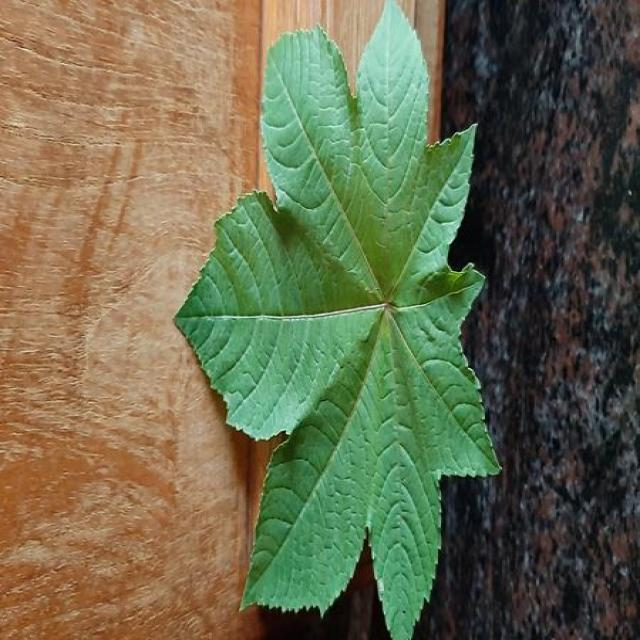castor: (175, 2, 498, 640)
